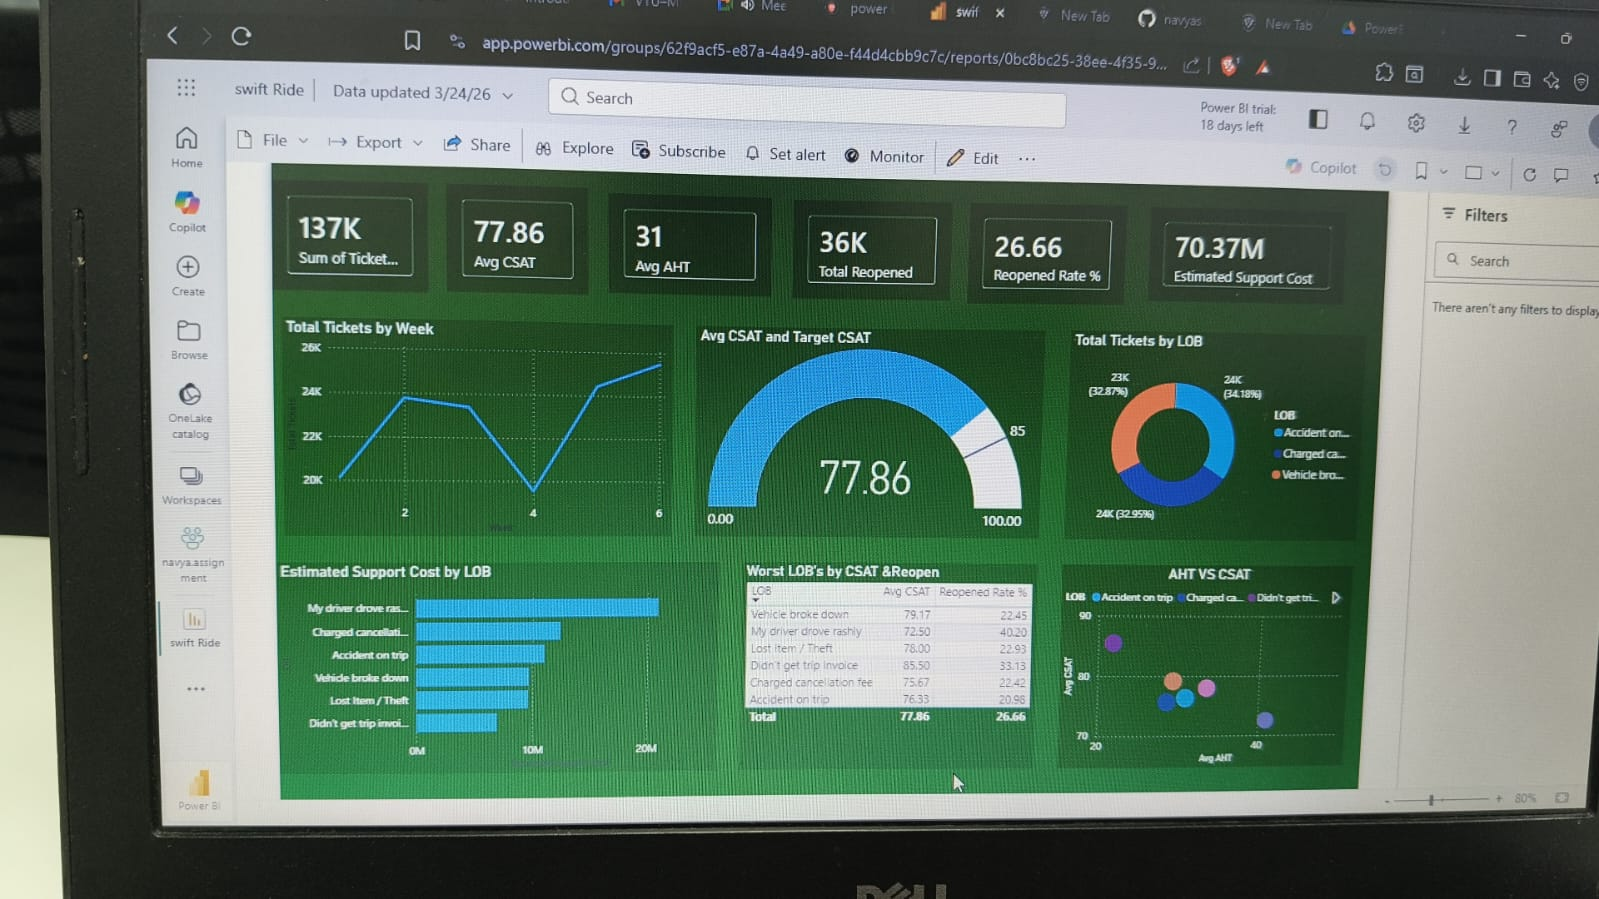

The dashboard page shown, as its layout file describes it:
{"tool":"powerbi","page":{"name":"Page 1","canvas":[1280,720],"ordinal":0},"visuals":[{"type":"cardVisual","fields":{"Data":["Sum(Swift Ride.Ticket Volume)"]},"box":[0,18.5,171.3,120.9],"z":0},{"type":"cardVisual","fields":{"Data":["Swift Ride.Avg CSAT"]},"box":[191.5,18.5,156.2,119.3],"z":1000},{"type":"cardVisual","fields":{"Data":["Swift Ride.Avg AHT"]},"box":[369.6,23.5,184.8,110.9],"z":2000},{"type":"cardVisual","fields":{"Data":["Swift Ride.Total Reopened"]},"box":[579.5,25.2,183.1,110.9],"z":3000},{"type":"cardVisual","fields":{"Data":["Swift Ride.Reopened Rate %"]},"box":[782.8,25.2,183.1,114.2],"z":4000},{"type":"cardVisual","fields":{"Data":["Swift Ride.Estimated Support Cost"]},"box":[994.4,26.9,235.2,107.5],"z":5000},{"type":"lineChart","fields":{"Y":["Swift Ride.Total Tickets"],"Category":["Swift Ride.Week"]},"box":[10.1,169.7,431.7,245.2],"z":6000},{"type":"gauge","fields":{"TargetValue":["Swift Ride.Target CCAT"],"Y":["Swift Ride.Avg CSAT"]},"box":[468.7,169.7,406.5,245.2],"z":7000},{"type":"donutChart","fields":{"Category":["Swift Ride.LOB"],"Y":["Swift Ride.Total Tickets"]},"box":[905.4,169.7,354.4,245.2],"z":8000},{"type":"barChart","fields":{"Category":["Swift Ride.LOB"],"Y":["Swift Ride.Estimated Support Cost"]},"box":[0,445,498.3,245],"z":9000},{"type":"tableEx","title":"Worst LOB''s by CSAT &Reopen","fields":{"Values":["Swift Ride.LOB","Swift Ride.Avg CSAT","Swift Ride.Reopened Rate %"]},"box":[525,445,350,245],"z":10000},{"type":"scatterChart","title":"AHT VS CSAT","fields":{"X":["Swift Ride.Avg AHT"],"Y":["Swift Ride.Avg CSAT"],"Series":["Swift Ride.LOB"],"Size":["Swift Ride.Total Tickets"]},"box":[905,445,353.3,245],"z":11000}]}

Visuals, with their boxes on the page's 1280x720 design canvas (x1, y1, x2, y2). These are canvas units, not pixel positions in the 1599x899 screenshot, which may show the page scaled, cropped or inside an application window:
cardVisual - Sum(Swift Ride.Ticket Volume): rect(0, 18, 171, 139)
cardVisual - Swift Ride.Avg CSAT: rect(192, 18, 348, 138)
cardVisual - Swift Ride.Avg AHT: rect(370, 24, 554, 134)
cardVisual - Swift Ride.Total Reopened: rect(580, 25, 763, 136)
cardVisual - Swift Ride.Reopened Rate %: rect(783, 25, 966, 139)
cardVisual - Swift Ride.Estimated Support Cost: rect(994, 27, 1230, 134)
lineChart - Swift Ride.Total Tickets x Swift Ride.Week: rect(10, 170, 442, 415)
gauge - Swift Ride.Target CCAT x Swift Ride.Avg CSAT: rect(469, 170, 875, 415)
donutChart - Swift Ride.LOB x Swift Ride.Total Tickets: rect(905, 170, 1260, 415)
barChart - Swift Ride.LOB x Swift Ride.Estimated Support Cost: rect(0, 445, 498, 690)
"Worst LOB''s by CSAT &Reopen" tableEx: rect(525, 445, 875, 690)
"AHT VS CSAT" scatterChart: rect(905, 445, 1258, 690)
